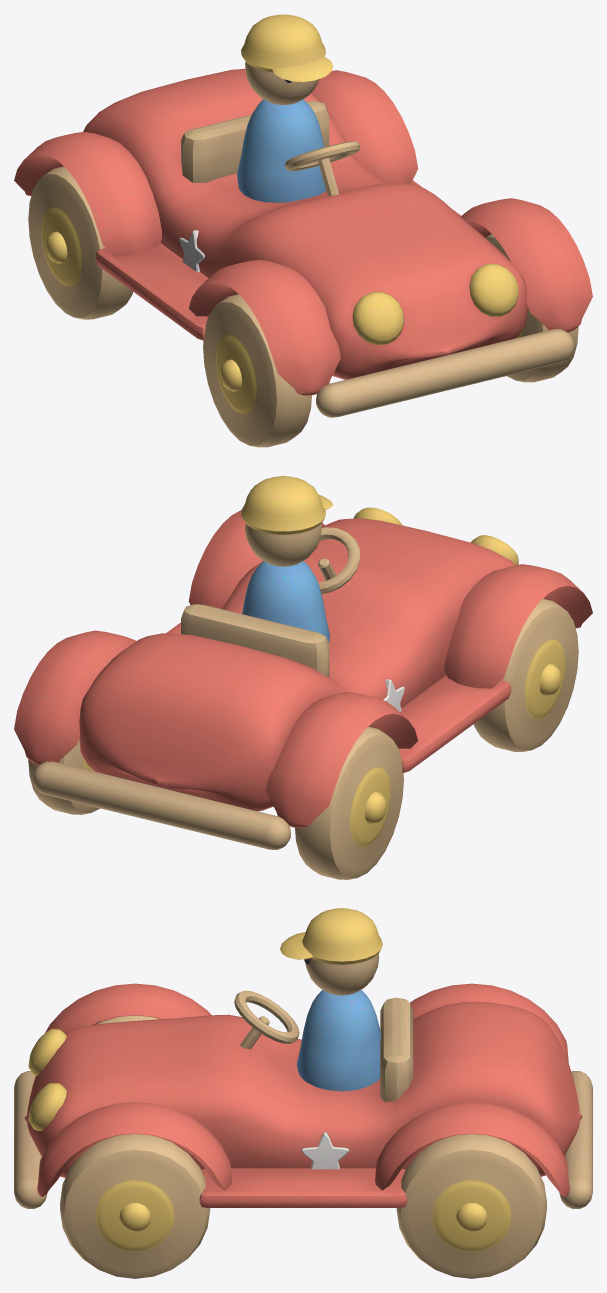
The model's file is coche_juguete.glb.
3 renders of one model, top to bottom at view 1: azimuth 30°, elevation 25°; view 2: azimuth 150°, elevation 25°; view 3: azimuth 270°, elevation 25°, orthographic. The views are drawn at different scales.
Parts seen in each view (by area): view 1: toy-car_body; view 2: toy-car_body; view 3: toy-car_body.
Part boxes in pixels (<box>): toy-car_body: <box>14,14,592,447</box>; toy-car_body: <box>14,476,592,879</box>; toy-car_body: <box>14,908,592,1278</box>.
Bounding box in the file's own units: 0.1018 × 0.0897 × 0.1582.
Materials: 3 (1 with a texture image).
